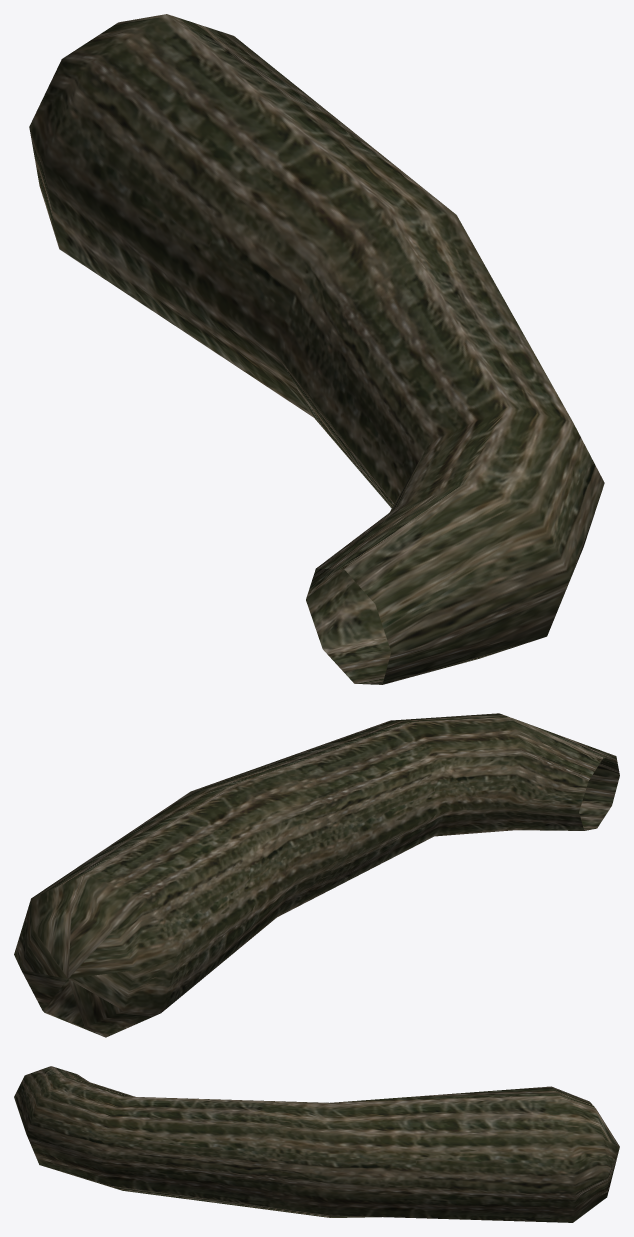
The model's file is MEP_Cactus_h_04.fbx.
3 renders of one model, top to bottom at view 1: azimuth 30°, elevation 25°; view 2: azimuth 150°, elevation 25°; view 3: azimuth 270°, elevation 25°, orthographic. The views are drawn at different scales.
Parts seen in each view (by area): view 1: MEP_Cactus_h_04; view 2: MEP_Cactus_h_04; view 3: MEP_Cactus_h_04.
Boxes of the visible parts, x1=… form: MEP_Cactus_h_04: x1=29, y1=14, x2=604, y2=684; MEP_Cactus_h_04: x1=14, y1=713, x2=619, y2=1037; MEP_Cactus_h_04: x1=14, y1=1066, x2=619, y2=1222.
Bounding box in the file's own units: 0.9976 × 0.5532 × 2.41.
1 material, 1 textured.
